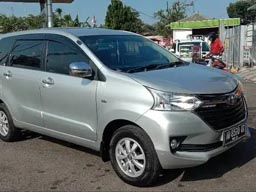plat: (223, 120, 248, 145)
